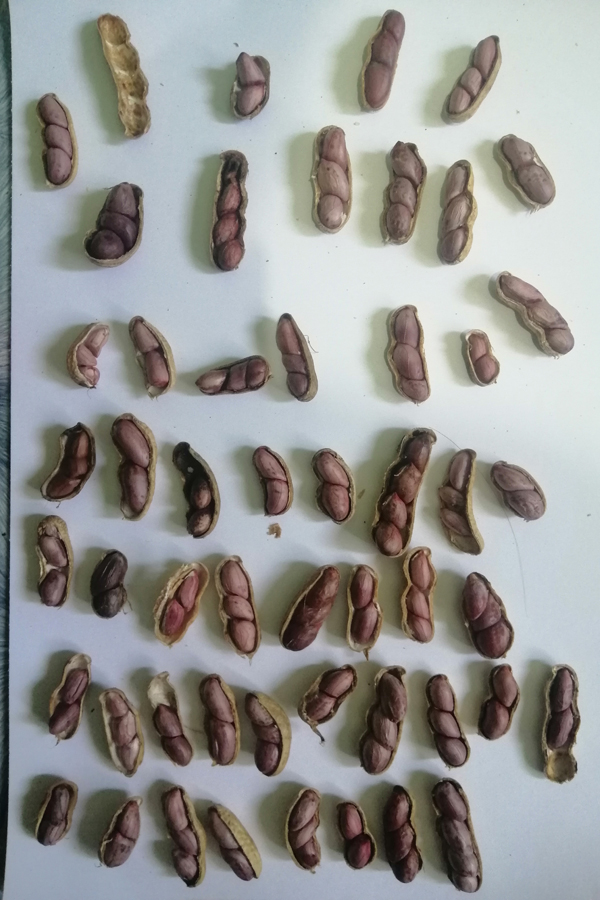Empty: (91, 11, 157, 143)
Four: (371, 423, 440, 560), (430, 773, 493, 897)
Three: (489, 268, 578, 366), (380, 301, 440, 411), (274, 563, 344, 655), (78, 181, 149, 269), (455, 568, 519, 665), (354, 3, 406, 117), (441, 32, 506, 122), (377, 134, 428, 248), (358, 661, 409, 775), (207, 142, 250, 277), (29, 89, 83, 194), (418, 670, 474, 770), (308, 124, 358, 234), (438, 443, 484, 560), (212, 550, 260, 662), (157, 783, 206, 892), (89, 685, 148, 775), (37, 418, 97, 502), (378, 782, 426, 885), (432, 157, 476, 269), (397, 550, 446, 647), (270, 310, 318, 407), (241, 688, 292, 779), (196, 351, 270, 407), (283, 788, 330, 875), (60, 314, 109, 389)
Two: (532, 659, 588, 785), (103, 411, 162, 522), (490, 129, 562, 217), (29, 648, 94, 745), (169, 439, 224, 543), (201, 802, 262, 891), (142, 671, 197, 768), (484, 453, 553, 528), (149, 560, 203, 647), (194, 672, 242, 769), (28, 509, 72, 613), (296, 661, 359, 729), (126, 313, 177, 394), (250, 444, 301, 524), (309, 443, 356, 528), (345, 560, 385, 658), (475, 663, 524, 741), (95, 795, 142, 876), (222, 48, 276, 118), (86, 547, 130, 627), (29, 779, 77, 851), (335, 796, 376, 877), (456, 329, 504, 391)
